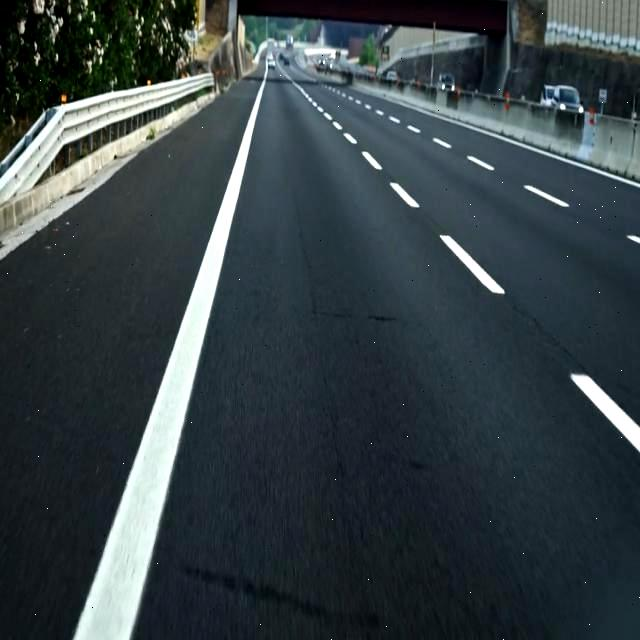lane: (75, 68, 268, 639), (570, 374, 640, 452), (441, 235, 505, 294), (524, 186, 570, 207), (391, 182, 420, 207), (468, 156, 495, 171), (362, 151, 382, 170)
road: (133, 72, 640, 639), (1, 79, 260, 639)
